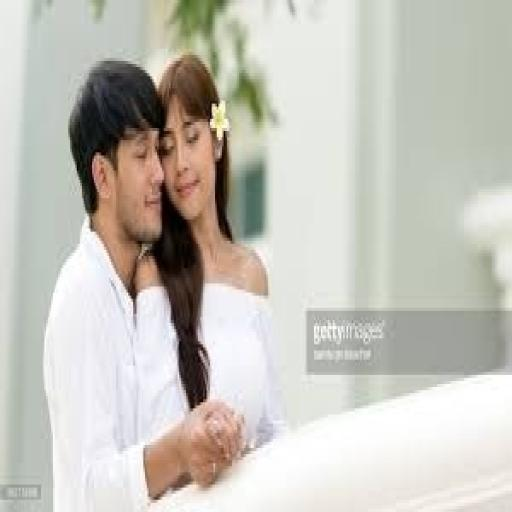hugging: (41, 55, 249, 509)
